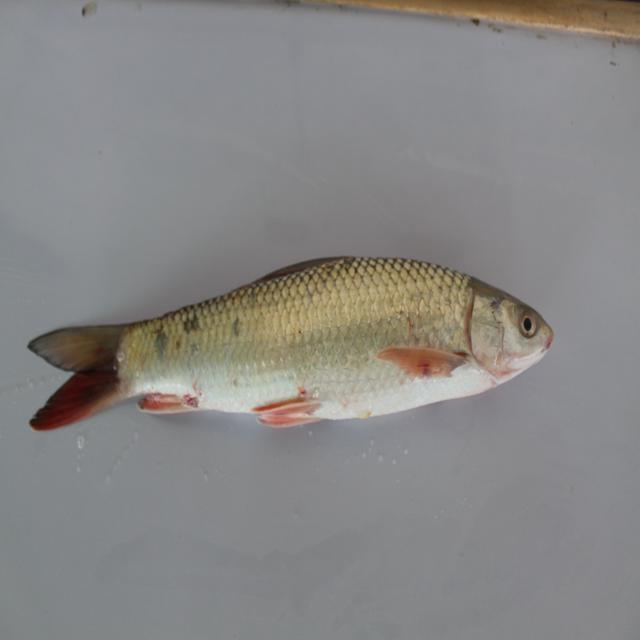Mori: (18, 255, 570, 450)
